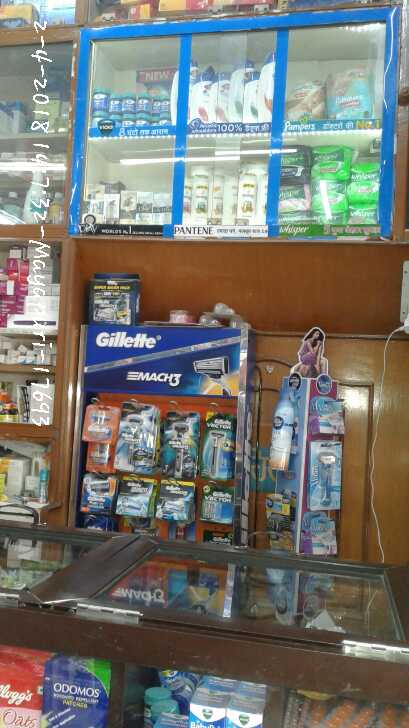vicks: (89, 85, 173, 124)
